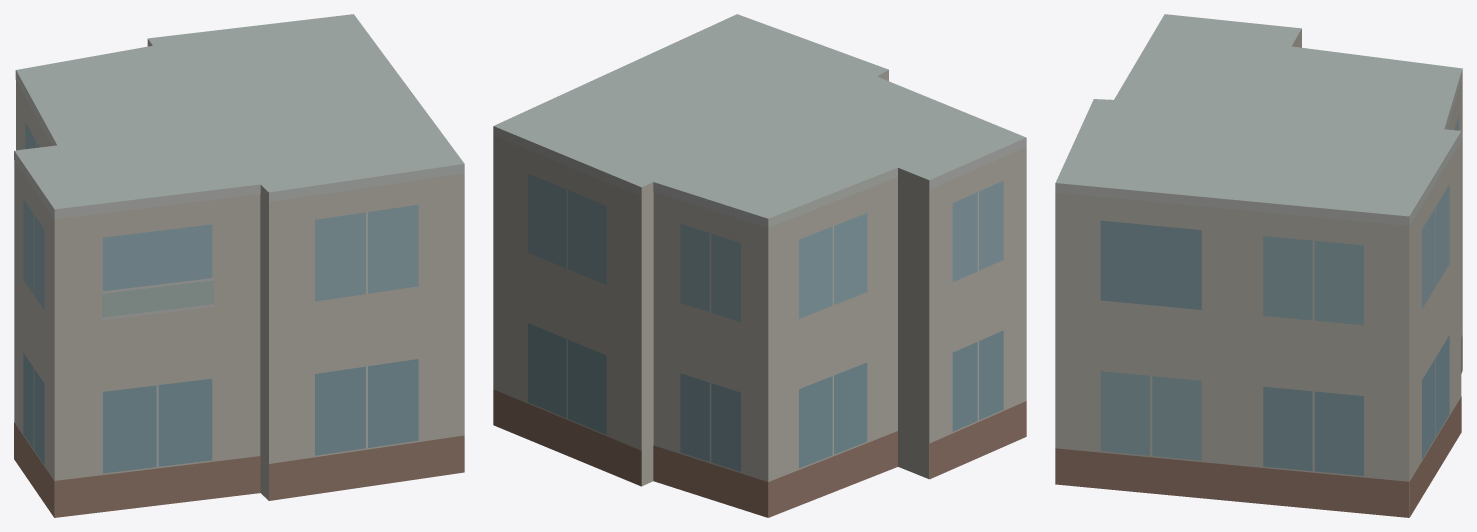
The model's file is survey-upis-32958085.glb.
3 views of the same model, side by side, from view 1: azimuth 30°, elevation 25°; view 2: azimuth 150°, elevation 25°; view 3: azimuth 270°, elevation 25° (orthographic). The views are drawn at different scales.
Visible parts, largest first — view 1: survey-upis-32958085.tmp; view 2: survey-upis-32958085.tmp; view 3: survey-upis-32958085.tmp.
Part boxes in pixels (x1=…): survey-upis-32958085.tmp: x1=14, y1=14, x2=464, y2=517; survey-upis-32958085.tmp: x1=493, y1=14, x2=1026, y2=517; survey-upis-32958085.tmp: x1=1055, y1=14, x2=1462, y2=517.
Size of the model in its own units: 11.25 by 7.8 by 9.56.
